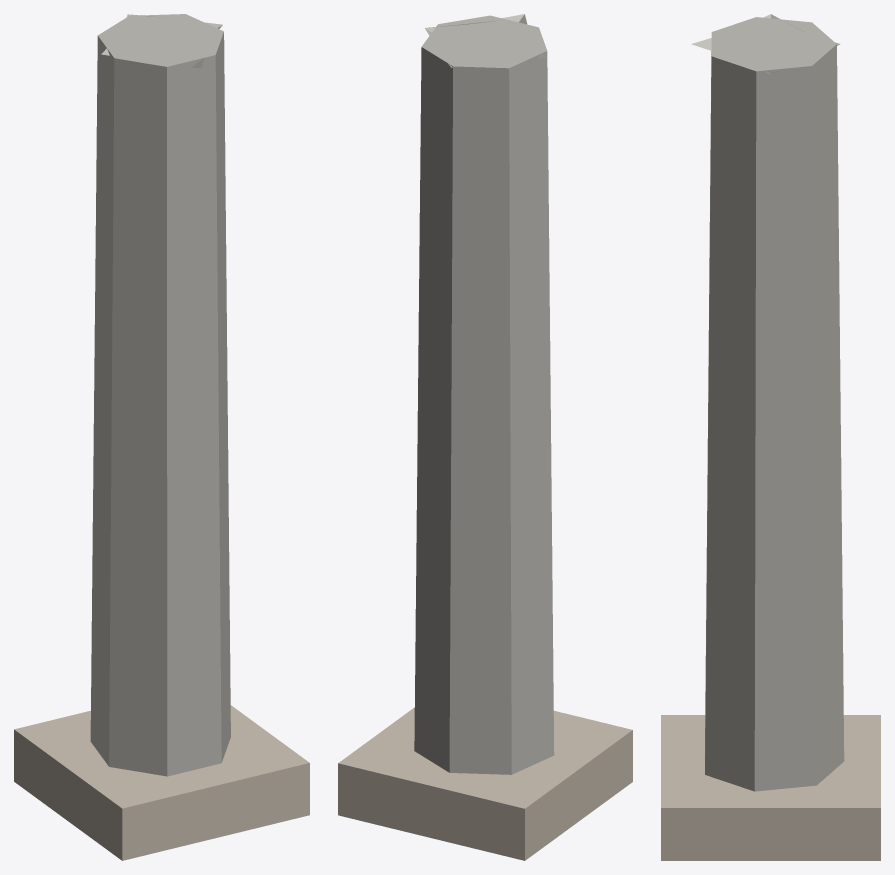
File: column_v04.glb
3 views of the same model, side by side, from view 1: azimuth 30°, elevation 25°; view 2: azimuth 150°, elevation 25°; view 3: azimuth 270°, elevation 25° (orthographic).
Parts seen in each view (by area): view 1: lod0; view 2: lod0; view 3: lod0.
Boxes of the visible parts, x1,y1,x2,y2 form: lod0: (14,14,309,860); lod0: (338,14,632,860); lod0: (661,14,880,860).
Size of what is drawn, in the model's own units: 0.6 by 2.38 by 0.6.
